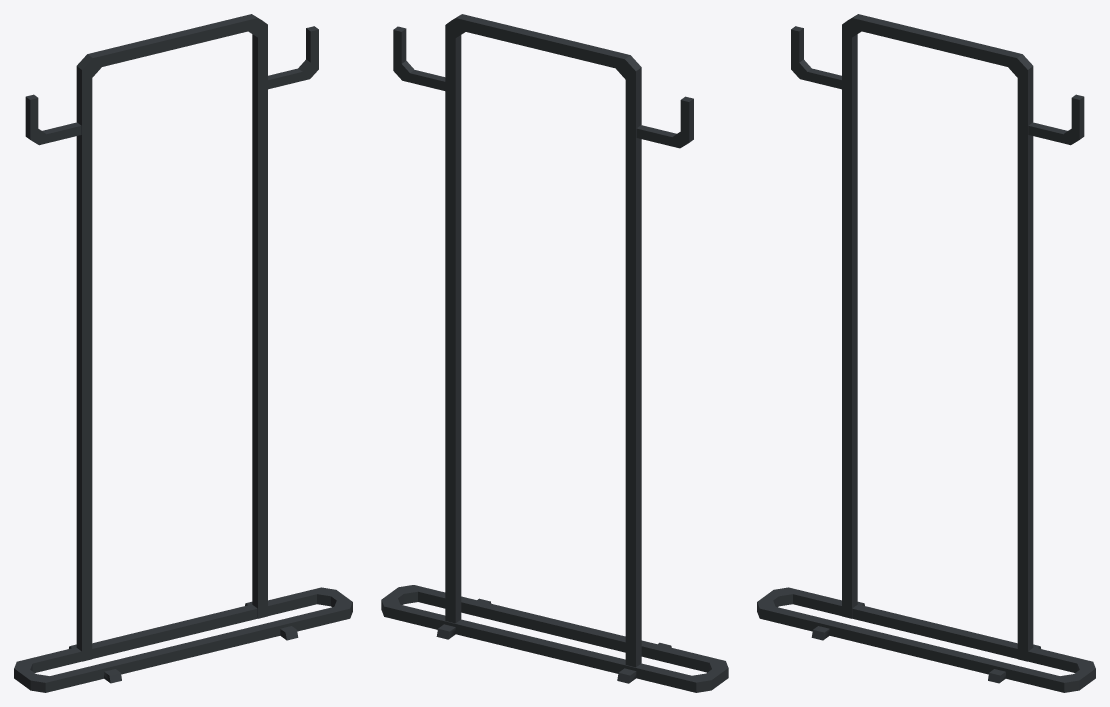
Rendered from SM_Prop_ShoppingBasket_Stand_01.002.obj.
3 renders of one model, left to right at view 1: azimuth 30°, elevation 25°; view 2: azimuth 150°, elevation 25°; view 3: azimuth 330°, elevation 25°, orthographic. The views are drawn at different scales.
Visible parts, largest first — view 1: SM_Prop_ShoppingBasket_Stand_01.002_0; view 2: SM_Prop_ShoppingBasket_Stand_01.002_0; view 3: SM_Prop_ShoppingBasket_Stand_01.002_0.
Boxes of the visible parts, bbox=[...] form: SM_Prop_ShoppingBasket_Stand_01.002_0: bbox=[14, 14, 352, 692]; SM_Prop_ShoppingBasket_Stand_01.002_0: bbox=[381, 14, 728, 692]; SM_Prop_ShoppingBasket_Stand_01.002_0: bbox=[757, 14, 1095, 692].
Bounding box in the file's own units: 1.02 × 1.83 × 0.2353.
